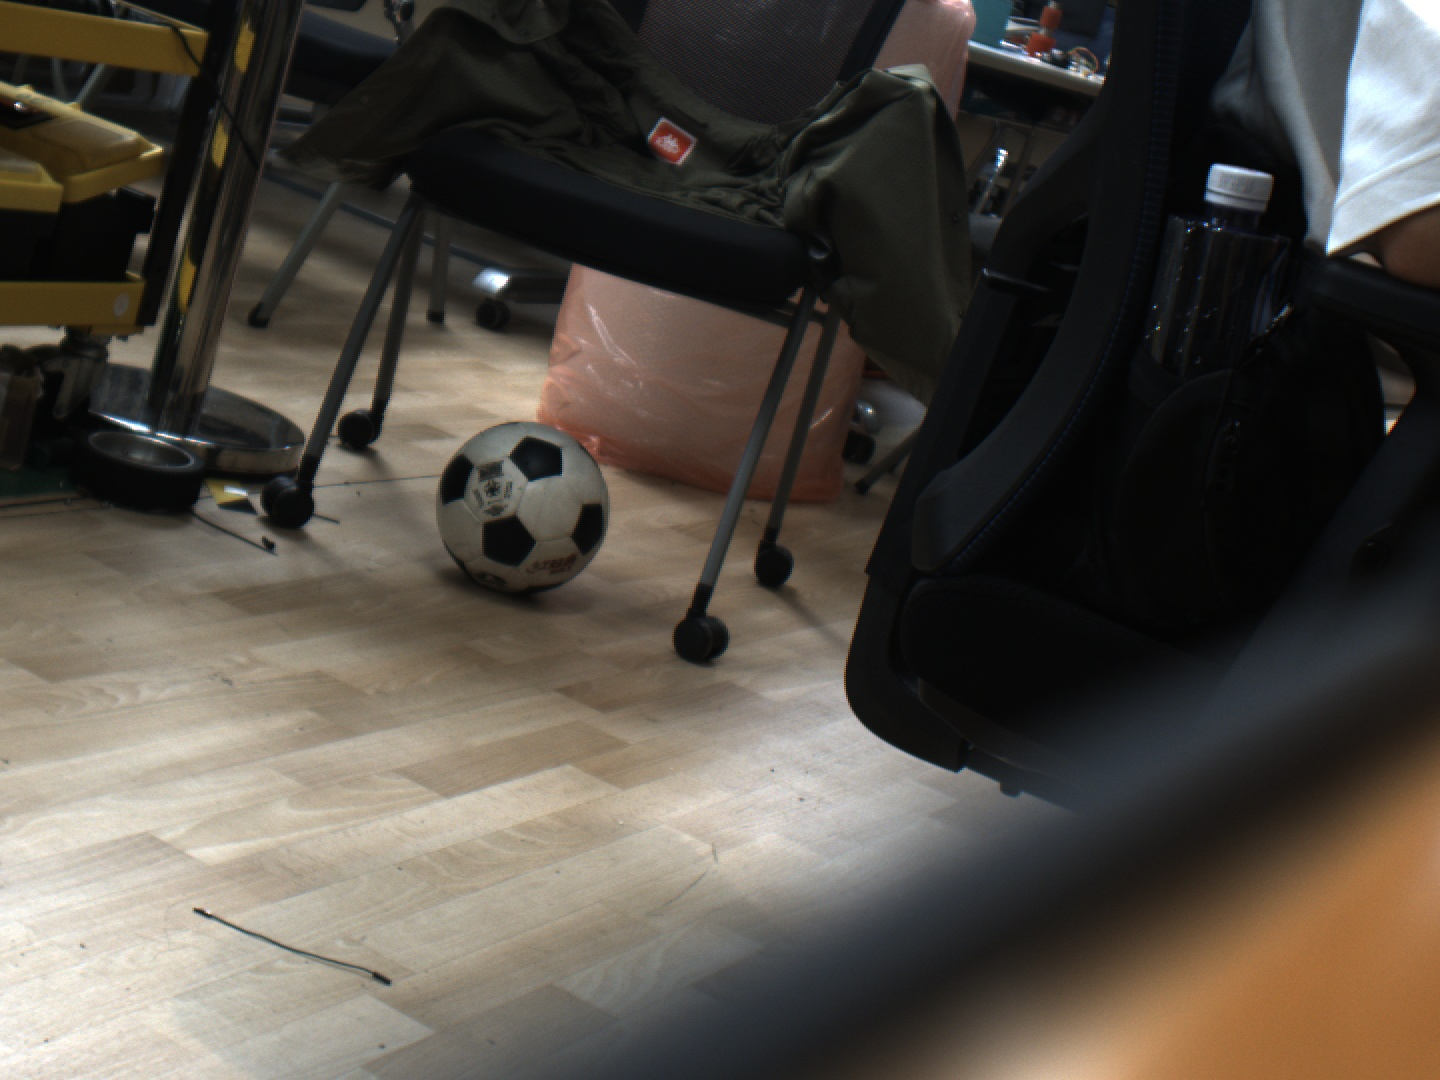ball: (435, 419, 608, 600)
